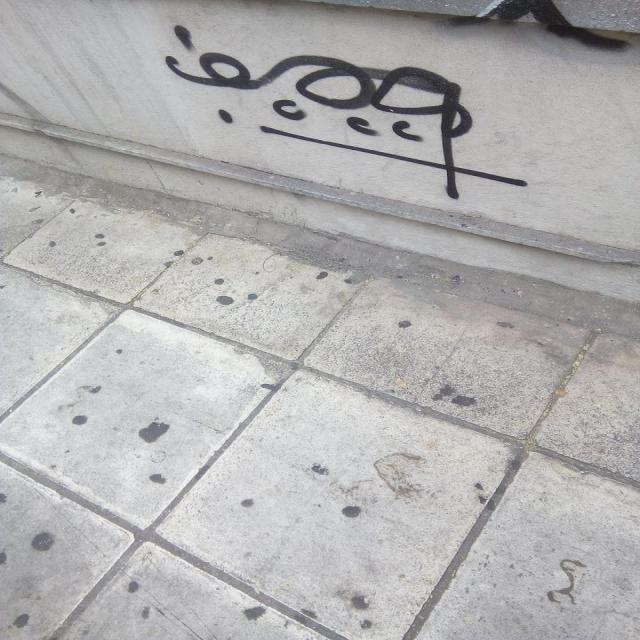nonspitting: (163, 22, 530, 200)
